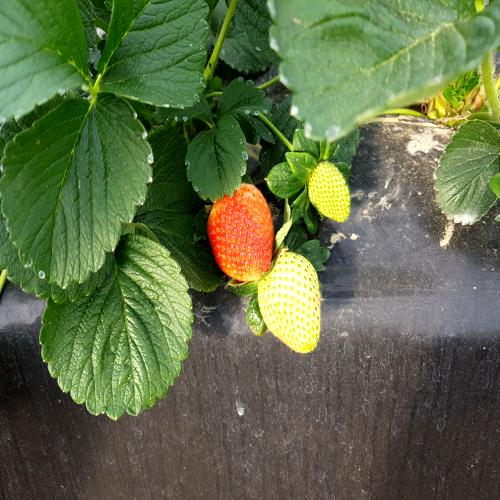ripe: (199, 170, 282, 291)
